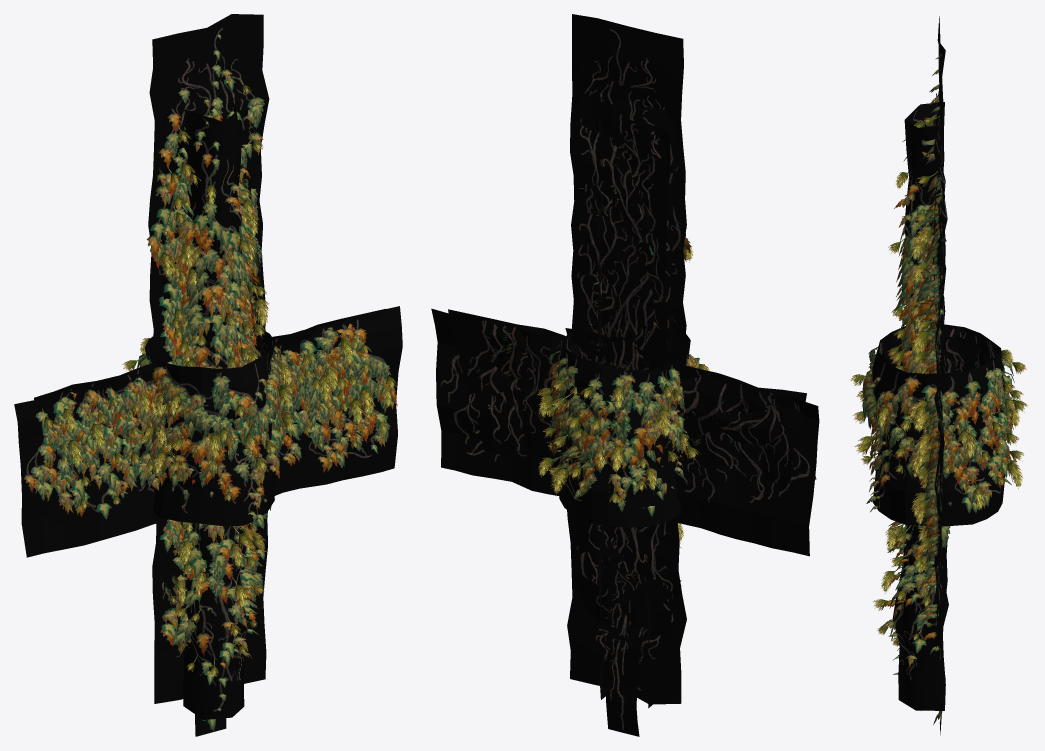
File: IvyFlowering_E.FBX
3 renders of one model, left to right at view 1: azimuth 30°, elevation 25°; view 2: azimuth 150°, elevation 25°; view 3: azimuth 270°, elevation 25°, orthographic. The views are drawn at different scales.
Parts seen in each view (by area): view 1: IvyWallWD_1_FE, IvyCyllUW_2_FE, IvyWallU_2_FE, IvyCyllU_FE, IvyWallWD_2_FE, IvyCyllD_FE, IvyWallD_1_FE, IvyWallU_1_FE, IvyCyllUW_1_FE, IvyWallU_3_FE, IvyWallD_2_FE; view 2: IvyWallWD_1_FE, IvyWallU_2_FE, IvyCyllUW_2_FE, IvyWallWD_2_FE, IvyWallD_1_FE, IvyWallU_3_FE, IvyWallU_1_FE, IvyWallD_6_FE, IvyWallD_2_FE, IvyCyllUW_1_FE, IvyWallCD_2_FE, IvyWallD_3_FE (+4 smaller); view 3: IvyCyllUW_2_FE, IvyCyllD_FE, IvyCyllU_FE, IvyWallU_2_FE, IvyWallWD_1_FE, IvyWallU_1_FE, IvyCyllUW_1_FE, IvyWallD_1_FE, IvyWallWD_2_FE, IvyWallU_3_FE, IvyWallCD_1_FE.
Part boxes in pixels (x1=…): IvyWallWD_1_FE: x1=14, y1=306, x2=402, y2=557; IvyCyllUW_2_FE: x1=122, y1=330, x2=294, y2=526; IvyWallU_2_FE: x1=146, y1=14, x2=269, y2=365; IvyCyllU_FE: x1=169, y1=96, x2=261, y2=368; IvyWallWD_2_FE: x1=34, y1=309, x2=385, y2=525; IvyCyllD_FE: x1=172, y1=360, x2=264, y2=719; IvyWallD_1_FE: x1=152, y1=353, x2=274, y2=703; IvyWallU_1_FE: x1=160, y1=111, x2=268, y2=365; IvyCyllUW_1_FE: x1=151, y1=343, x2=271, y2=500; IvyWallU_3_FE: x1=174, y1=108, x2=256, y2=364; IvyWallD_2_FE: x1=161, y1=335, x2=258, y2=619; IvyWallWD_1_FE: x1=431, y1=308, x2=819, y2=556; IvyWallU_2_FE: x1=570, y1=14, x2=692, y2=386; IvyCyllUW_2_FE: x1=537, y1=328, x2=709, y2=527; IvyWallWD_2_FE: x1=448, y1=309, x2=806, y2=499; IvyWallD_1_FE: x1=565, y1=328, x2=686, y2=704; IvyWallU_3_FE: x1=589, y1=114, x2=670, y2=369; IvyWallU_1_FE: x1=579, y1=91, x2=675, y2=370; IvyWallD_6_FE: x1=606, y1=344, x2=640, y2=736; IvyWallD_2_FE: x1=577, y1=337, x2=672, y2=640; IvyCyllUW_1_FE: x1=558, y1=343, x2=689, y2=516; IvyWallCD_2_FE: x1=581, y1=348, x2=706, y2=561; IvyWallD_3_FE: x1=584, y1=341, x2=663, y2=611; IvyCyllUW_2_FE: x1=850, y1=324, x2=1028, y2=526; IvyCyllD_FE: x1=873, y1=346, x2=950, y2=710; IvyCyllU_FE: x1=887, y1=102, x2=946, y2=373; IvyWallU_2_FE: x1=910, y1=16, x2=947, y2=387; IvyWallWD_1_FE: x1=911, y1=387, x2=944, y2=601; IvyWallU_1_FE: x1=911, y1=93, x2=945, y2=373; IvyCyllUW_1_FE: x1=869, y1=336, x2=1010, y2=506; IvyWallD_1_FE: x1=917, y1=336, x2=945, y2=713; IvyWallWD_2_FE: x1=914, y1=296, x2=945, y2=555; IvyWallU_3_FE: x1=914, y1=142, x2=946, y2=373; IvyWallCD_1_FE: x1=908, y1=399, x2=938, y2=432.
Size of the model in its own units: 183 by 322 by 77.05.
